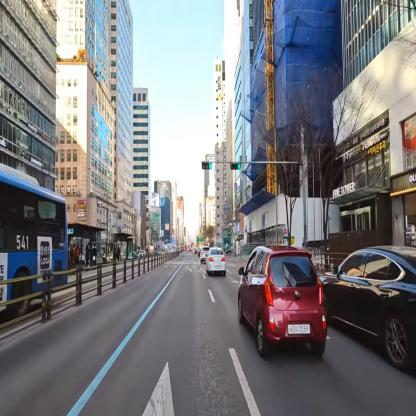Green: (202, 161, 212, 171), (230, 161, 241, 169)
